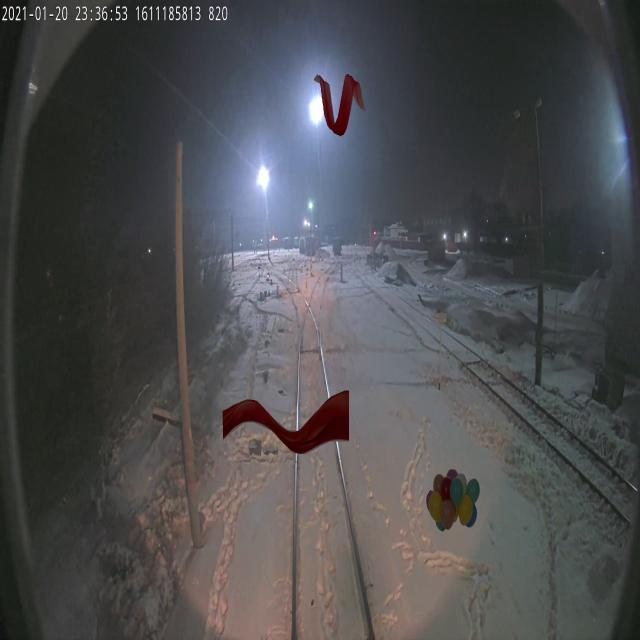balloon: (426, 468, 480, 532)
floating object: (223, 390, 349, 454), (314, 72, 367, 136)
